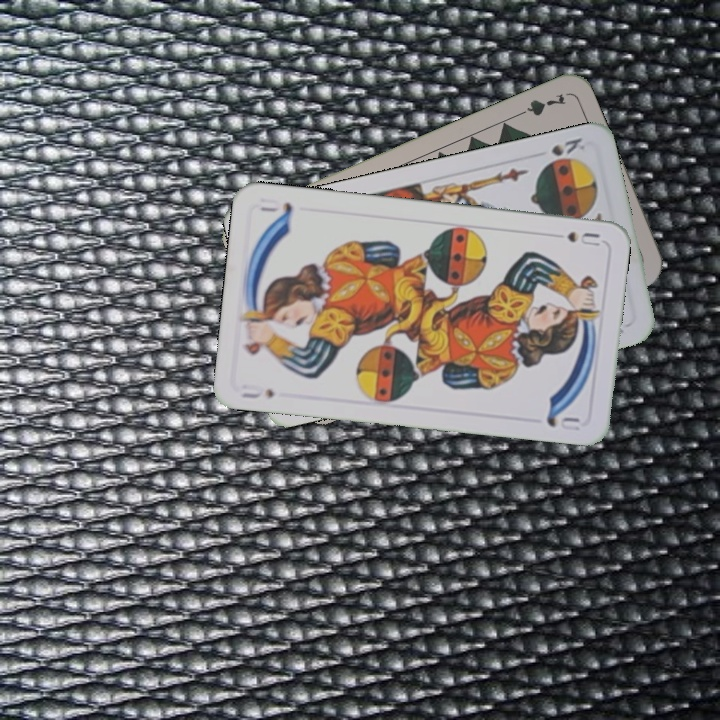G7: (511, 89, 569, 120)
SK: (547, 134, 589, 159)
SU: (563, 227, 603, 249), (237, 380, 277, 401)
